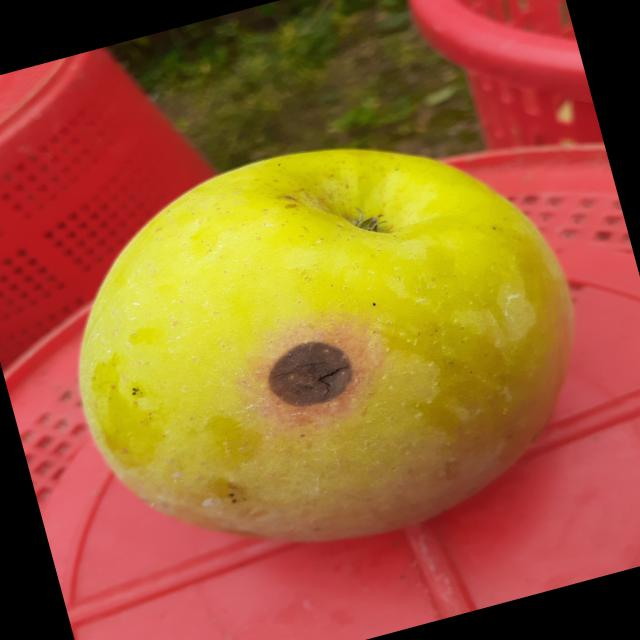rotten: (4, 79, 632, 617)
